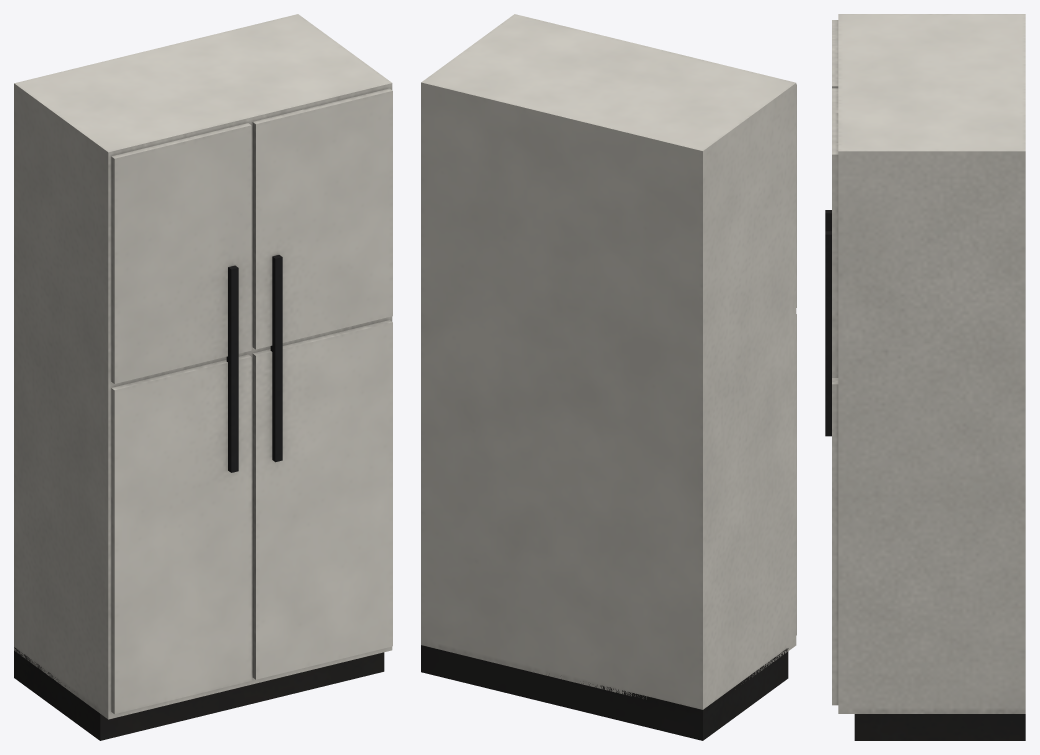
Rendered from H_Pantry.fbx.
The picture shows the model from 3 angles, left to right: view 1: azimuth 30°, elevation 25°; view 2: azimuth 150°, elevation 25°; view 3: azimuth 270°, elevation 25°; orthographic projection.
Parts seen in each view (by area): view 1: H_Pantry; view 2: H_Pantry; view 3: H_Pantry.
Boxes of the visible parts, x1,y1,x2,y2 form: H_Pantry: [14, 14, 392, 740]; H_Pantry: [421, 14, 796, 740]; H_Pantry: [825, 14, 1025, 740].
Bounding box in the file's own units: 400 × 800 × 246.
Materials: 1 (1 with a texture image).
